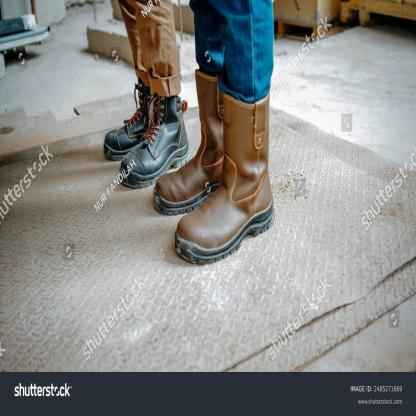bota: (119, 94, 190, 193), (101, 76, 152, 165)
